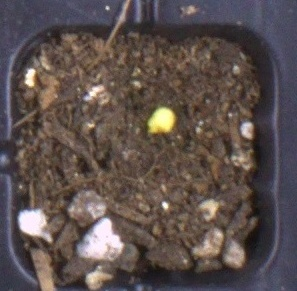chilli seed: (146, 107, 176, 134)
